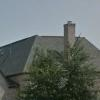Chimney: (60, 17, 82, 52)
